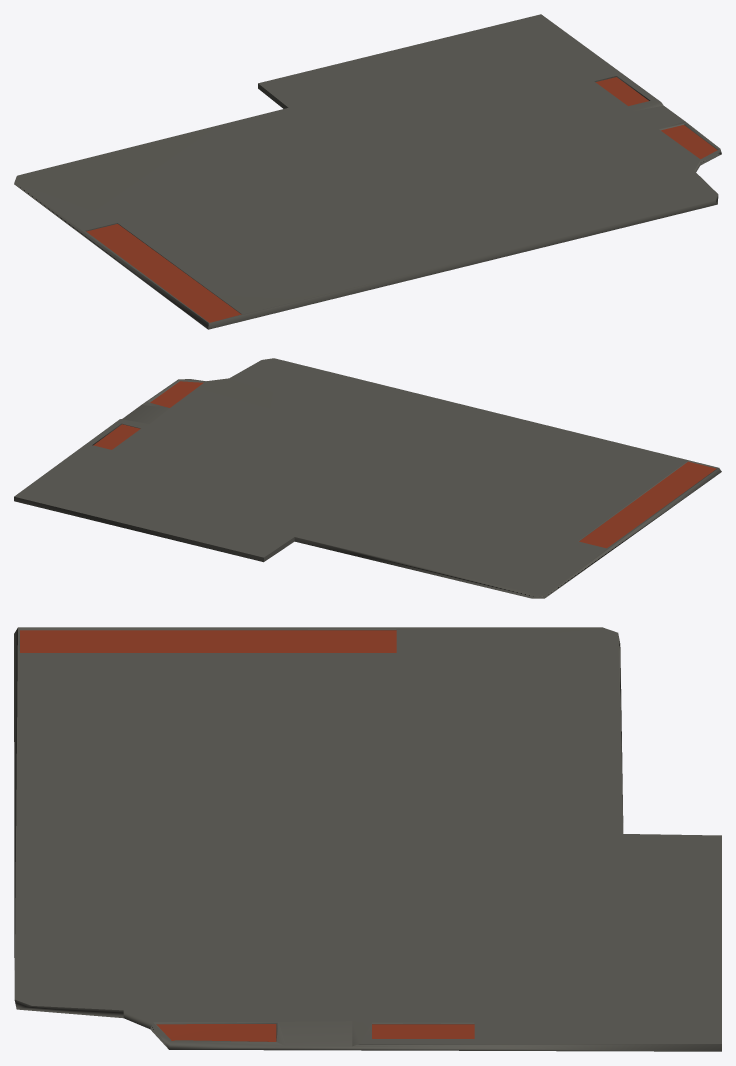
The model's file is podium_2.fbx.
3 renders of one model, top to bottom at view 1: azimuth 30°, elevation 25°; view 2: azimuth 150°, elevation 25°; view 3: azimuth 270°, elevation 25°, orthographic. The views are drawn at different scales.
Visible parts, largest first — view 1: Cube; view 2: Cube; view 3: Cube.
Boxes of the visible parts, x1,y1,x2,y2 form: Cube: [14, 14, 721, 329]; Cube: [14, 358, 721, 598]; Cube: [14, 627, 721, 1051].
Size of the model in its own units: 6179 by 54.07 by 4425.
